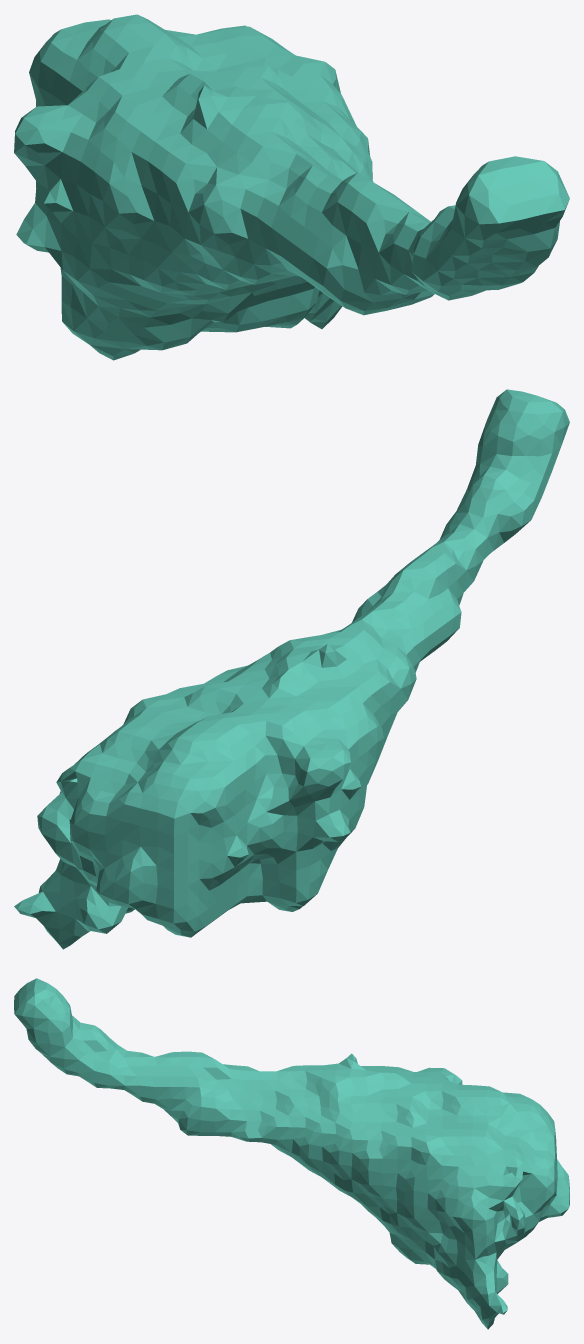
Rendered from aseg_015_4th-Ventricle.glb.
The picture shows the model from 3 angles, top to bottom: view 1: azimuth 30°, elevation 25°; view 2: azimuth 150°, elevation 25°; view 3: azimuth 270°, elevation 25°; orthographic projection. The views are drawn at different scales.
Size of the model in its own units: 16.6 by 20.67 by 36.75.
